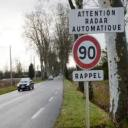speed_limit_90: (74, 35, 100, 69)
